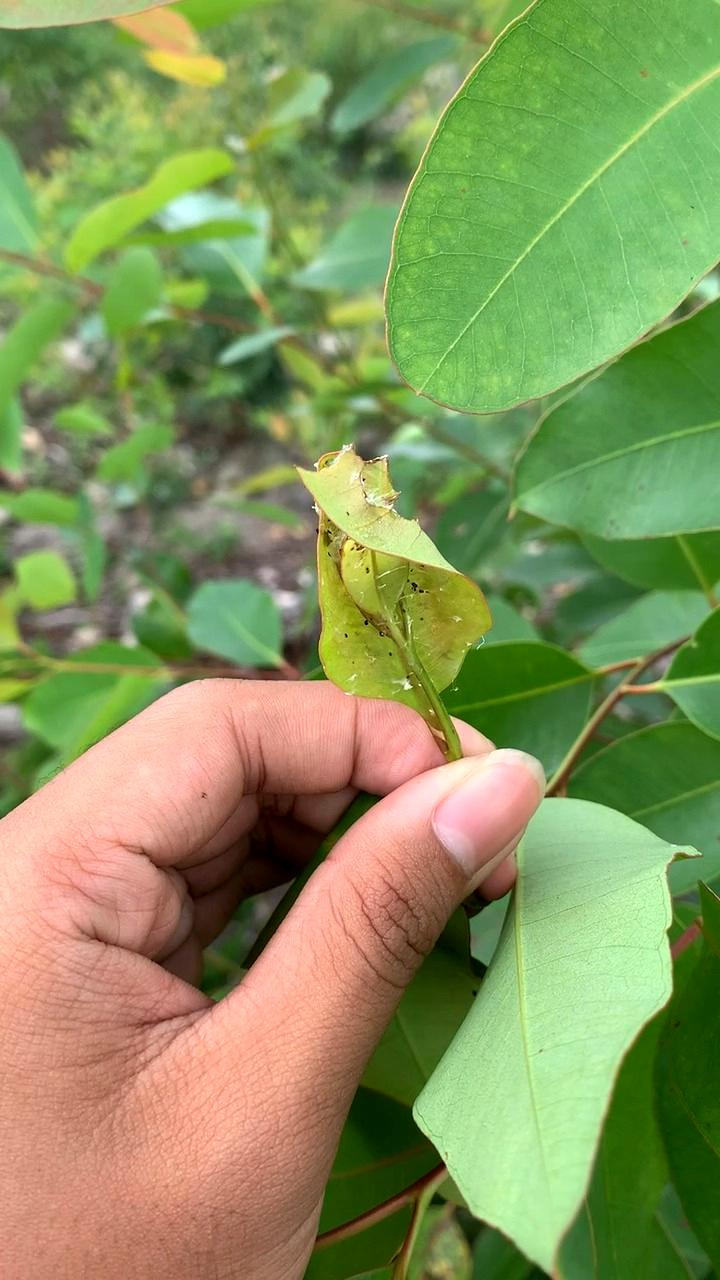Leaf Roller - Leaf: (295, 440, 489, 707)
